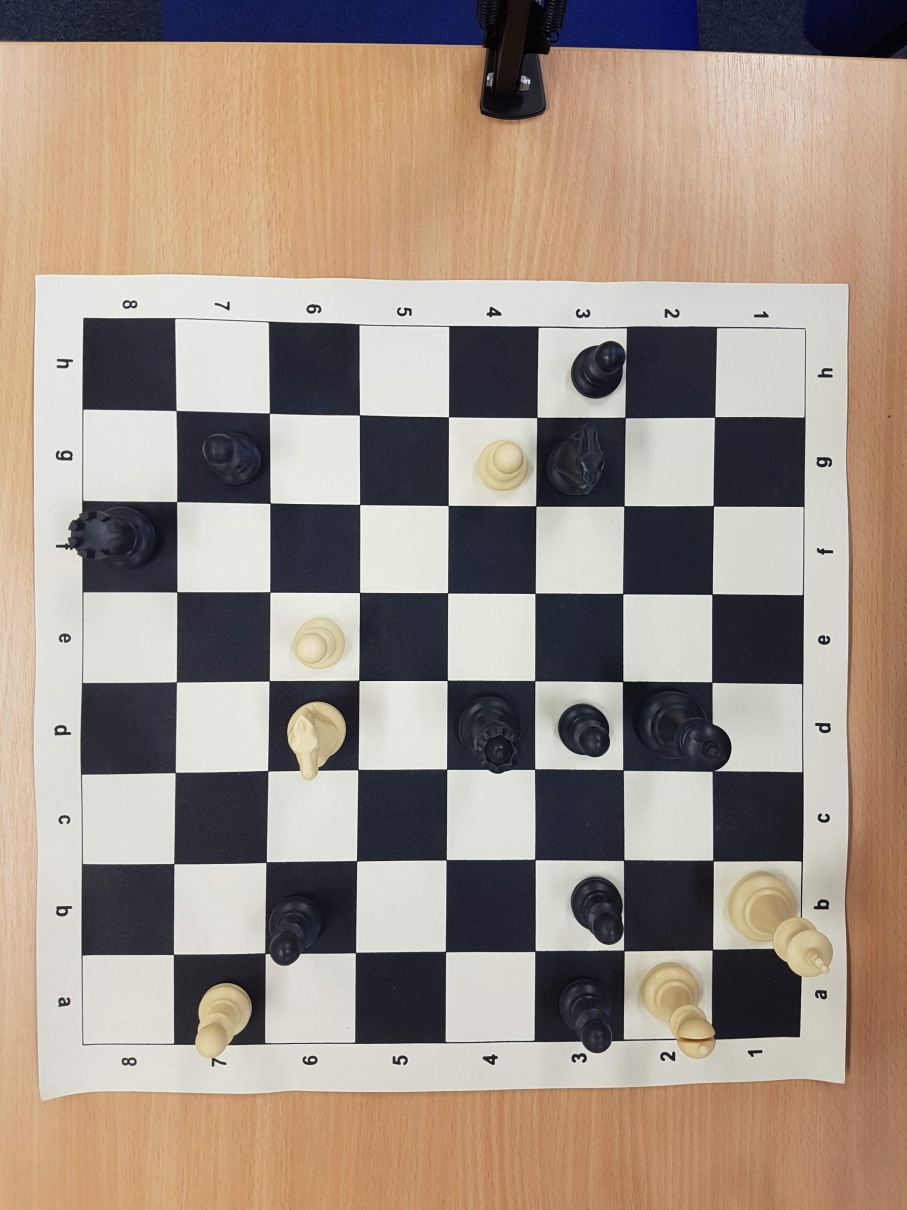chess_bishop: (641, 962, 715, 1058)
chess_king: (728, 871, 833, 978), (637, 691, 732, 772)
chess_knight: (286, 700, 346, 780), (549, 422, 605, 497)
chess_pawn: (194, 984, 251, 1058), (558, 981, 613, 1054), (570, 877, 624, 945), (266, 898, 320, 965), (199, 431, 260, 484), (570, 341, 624, 400), (291, 617, 346, 669), (475, 439, 528, 492), (559, 704, 610, 758)
chess_queen: (458, 696, 523, 775)
chess_rook: (67, 505, 157, 571)
